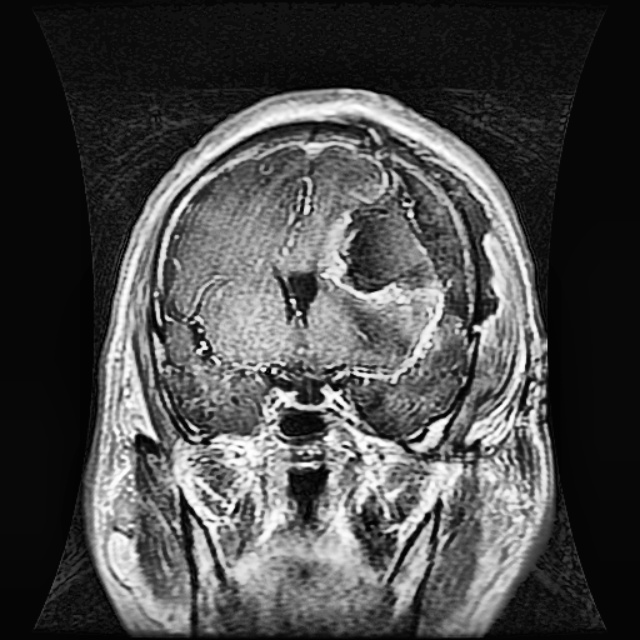Glioma: (324, 159, 458, 357)
